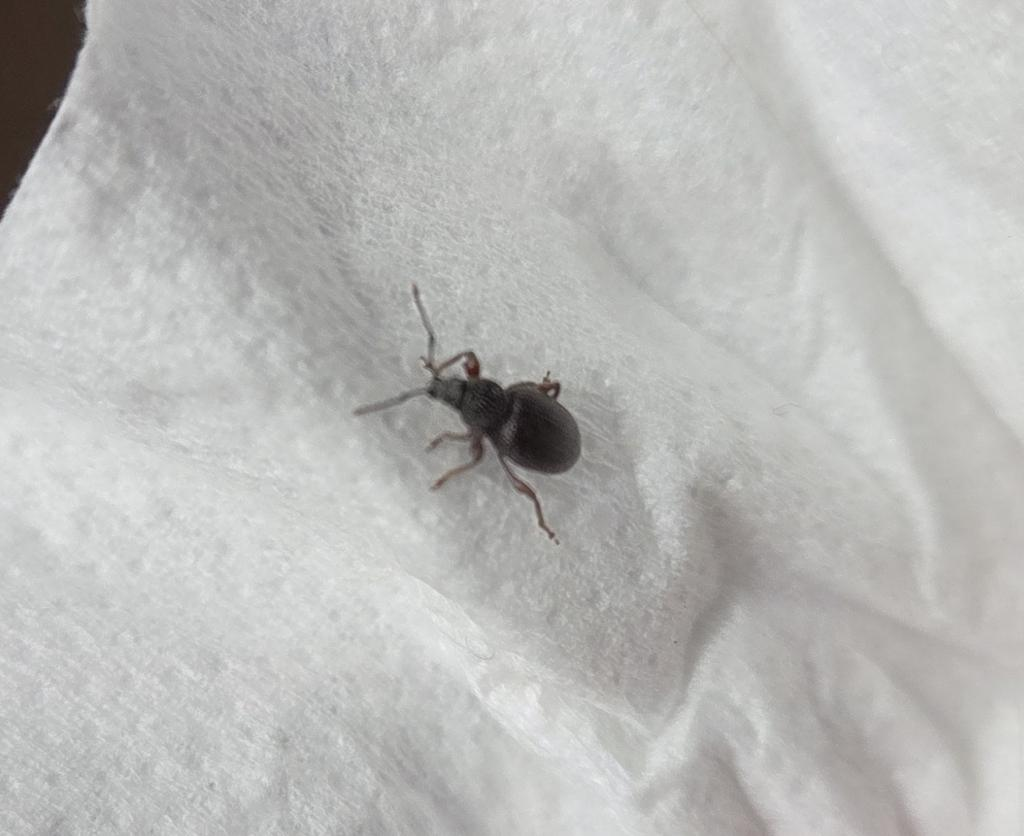weevils: (304, 261, 643, 569)
